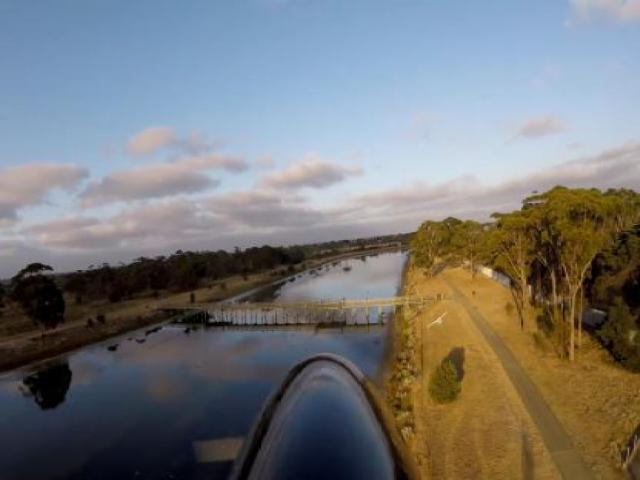uav: (420, 308, 451, 332)
